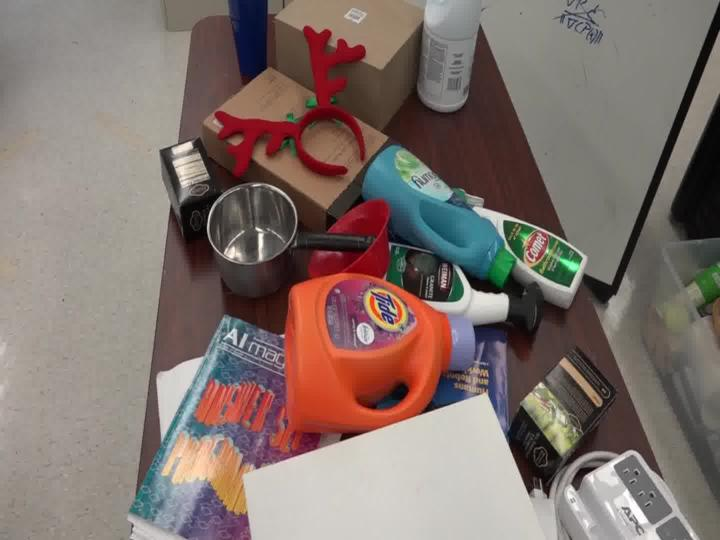tide: (260, 249, 486, 438)
